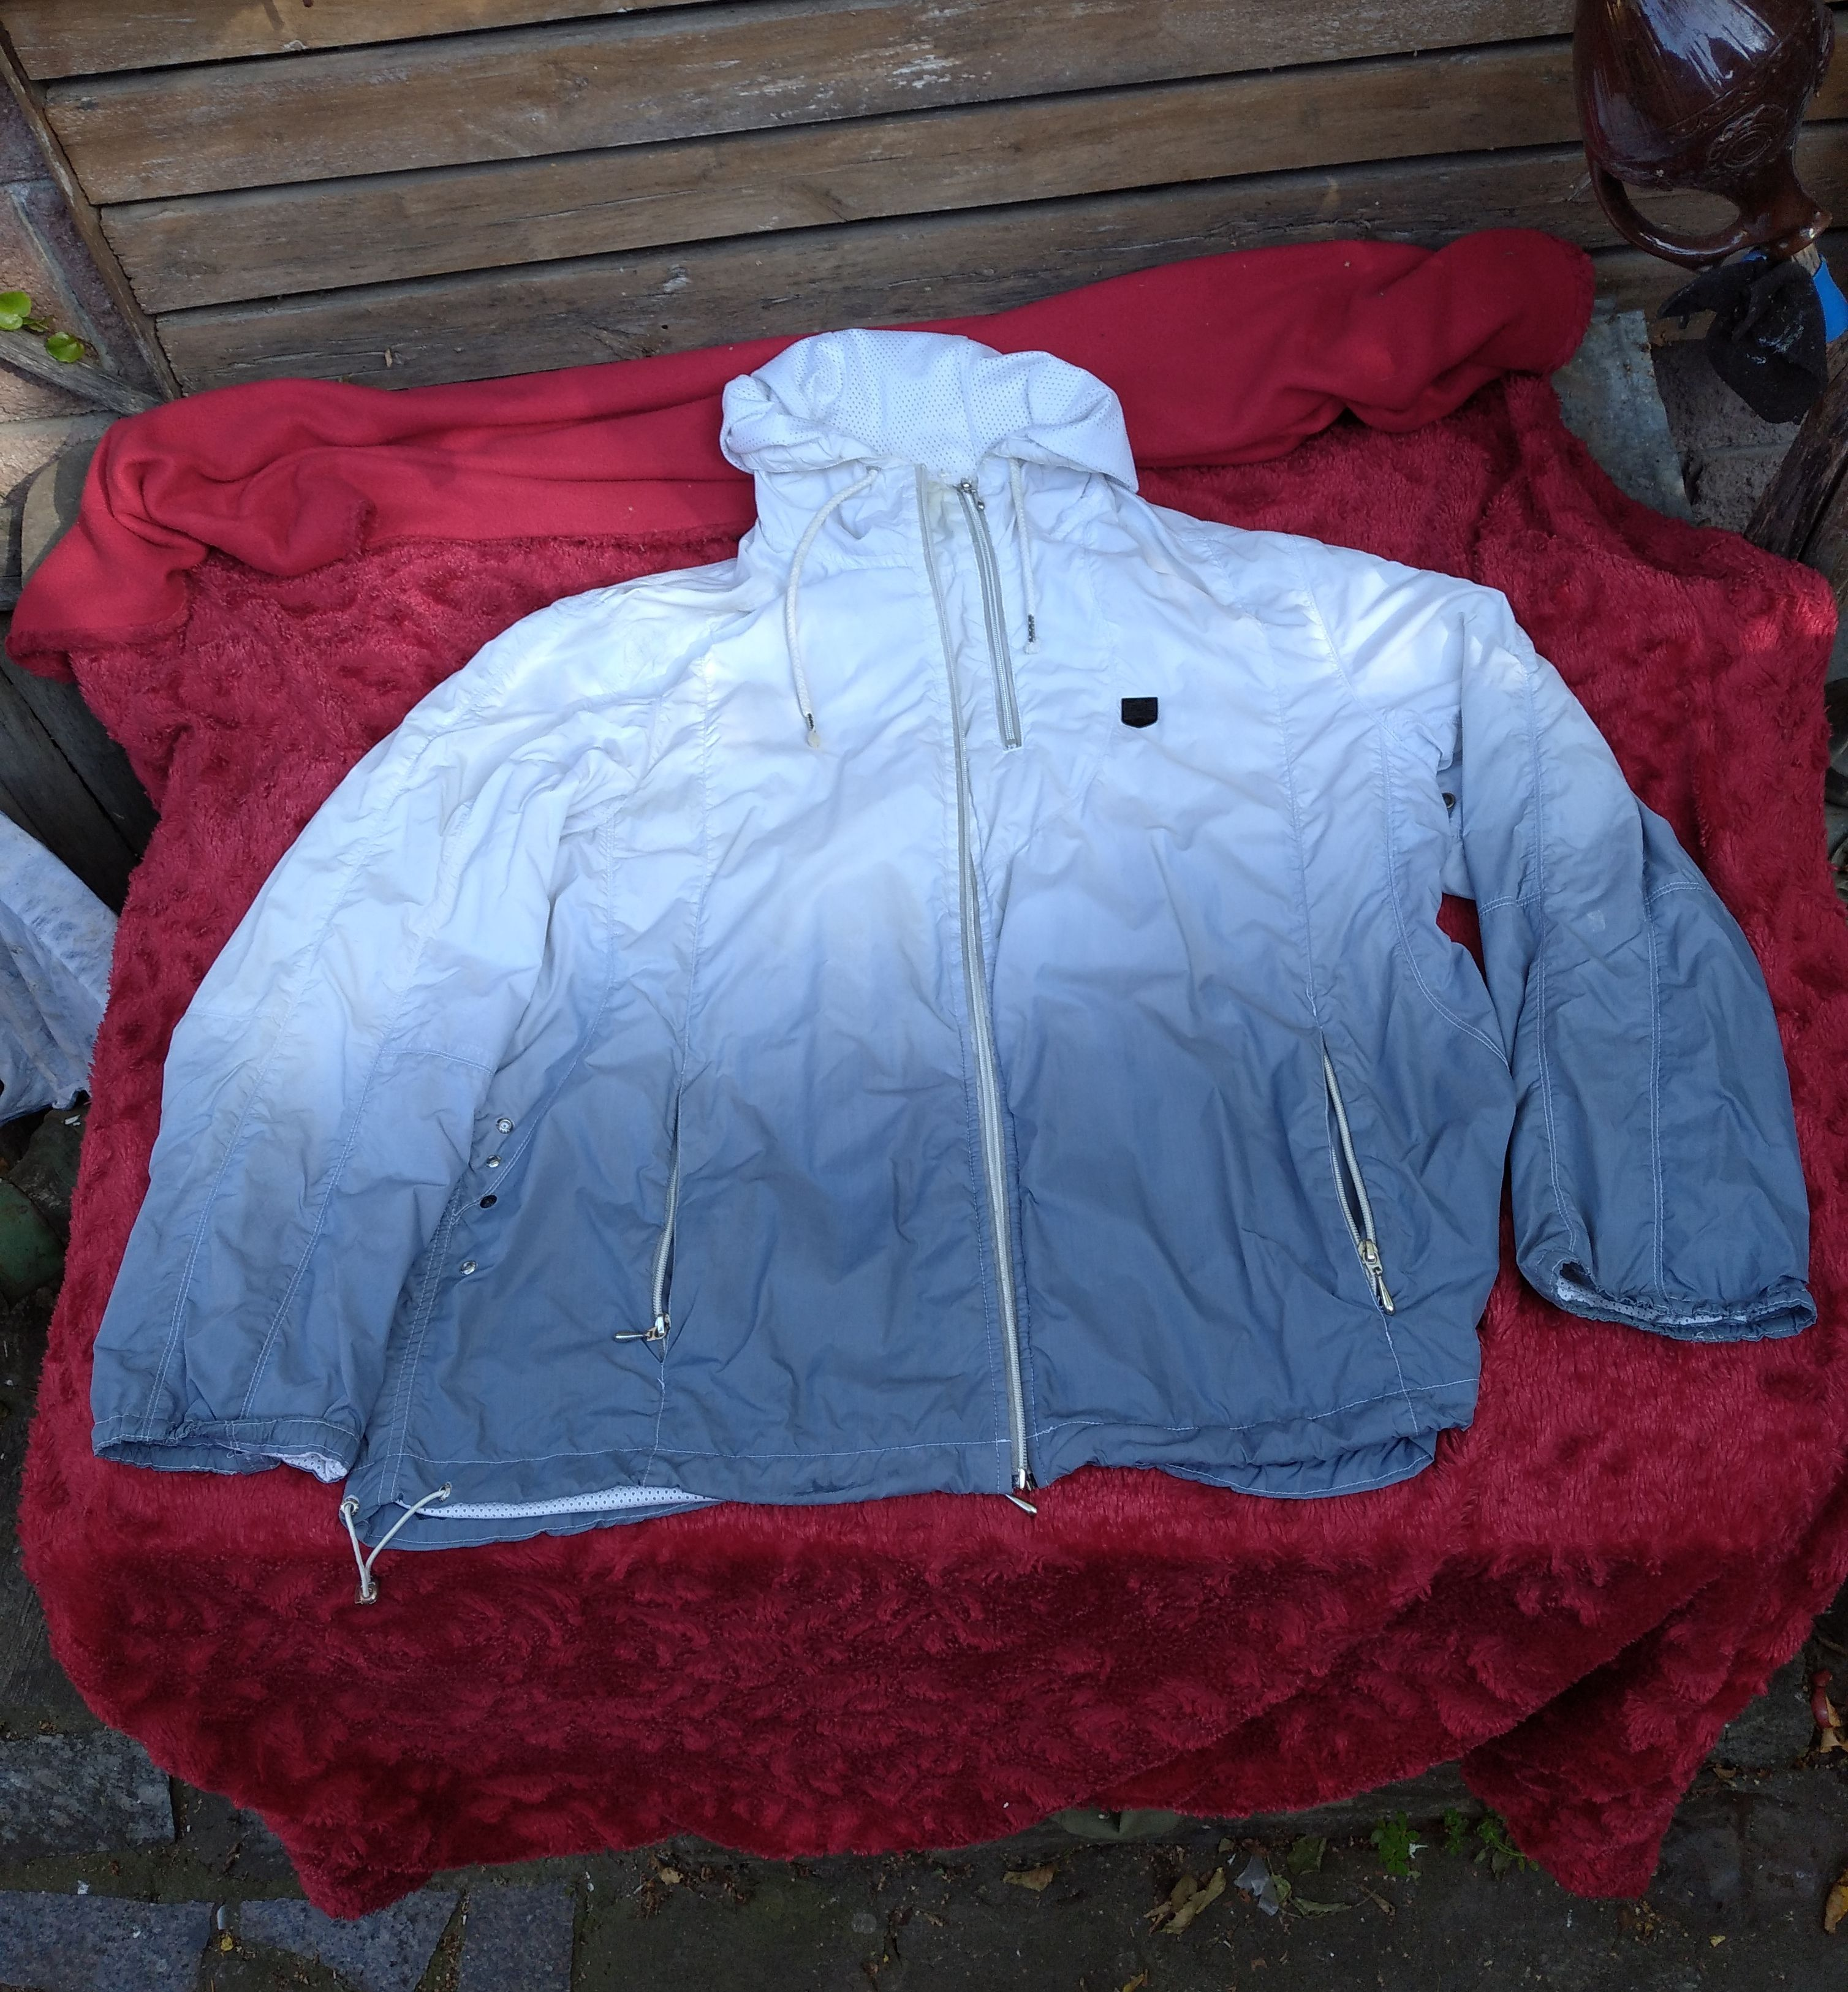clothes: (83, 314, 1810, 1563)
